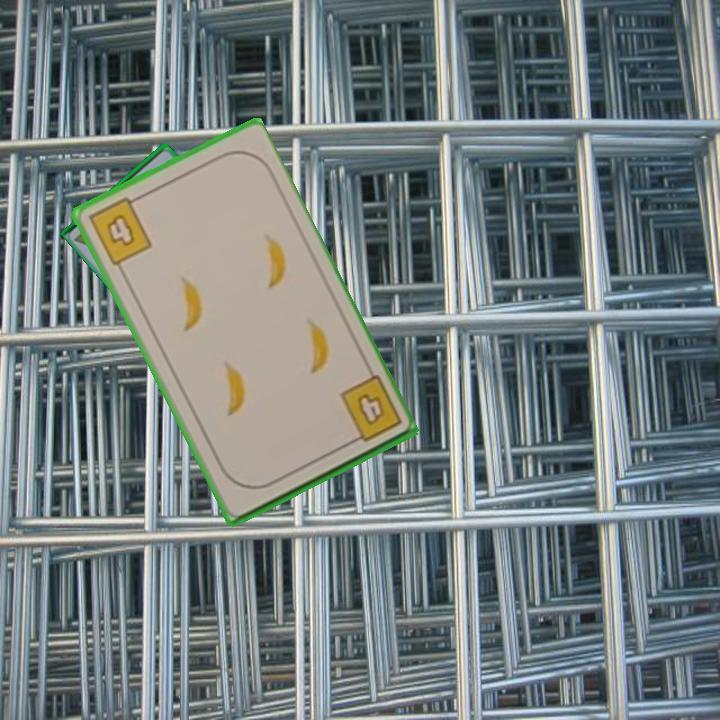4b: (84, 192, 155, 269), (336, 372, 405, 448)
